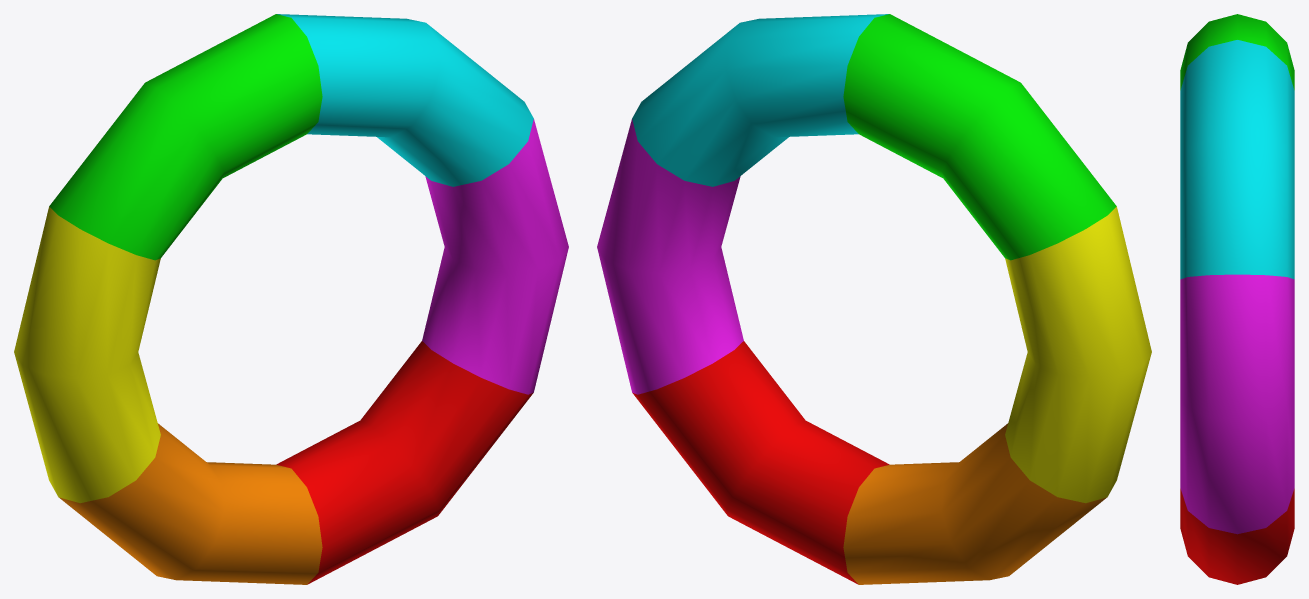
File: CIRCULO_CROMATICO.fbx
3 views of the same model, side by side, from view 1: azimuth 30°, elevation 25°; view 2: azimuth 150°, elevation 25°; view 3: azimuth 270°, elevation 25° (orthographic). The views are drawn at different scales.
Parts seen in each view (by area): view 1: Torus.001; view 2: Torus.001; view 3: Torus.001.
Boxes of the visible parts, x1,y1,x2,y2 form: Torus.001: [14, 14, 568, 584]; Torus.001: [597, 14, 1151, 584]; Torus.001: [1180, 14, 1294, 584].
Size of the model in its own units: 153 by 153 by 30.65.
